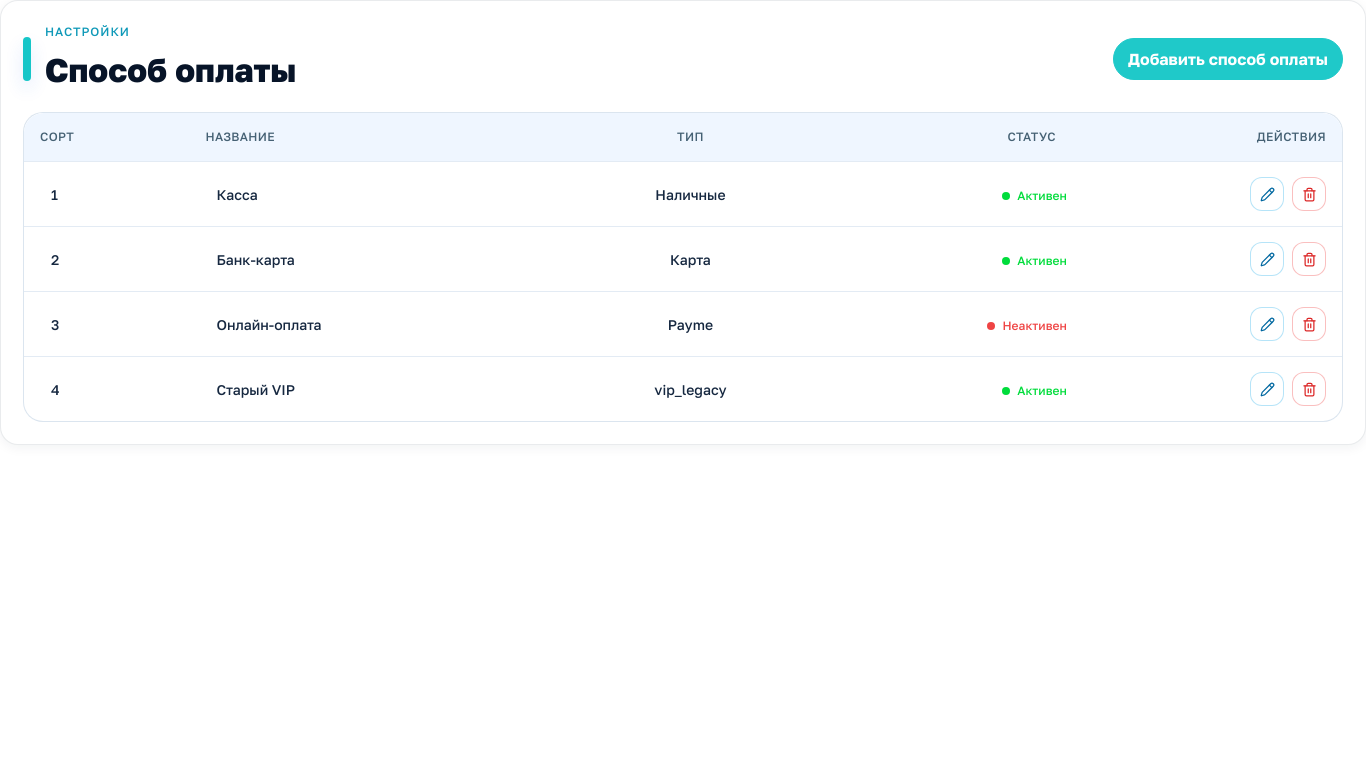
Scenario: SettingsPaymentMethodsPage — create & edit › legacy edit: dropdown shows the canonical options, raw value is a note not an option
This screenshot has width=1366, height=768.
expect the text "Касса" is shown: met, box [190,161,560,226]
Click the button named "Редактировать".
click(1267, 389)  # box [1250,372,1284,406]
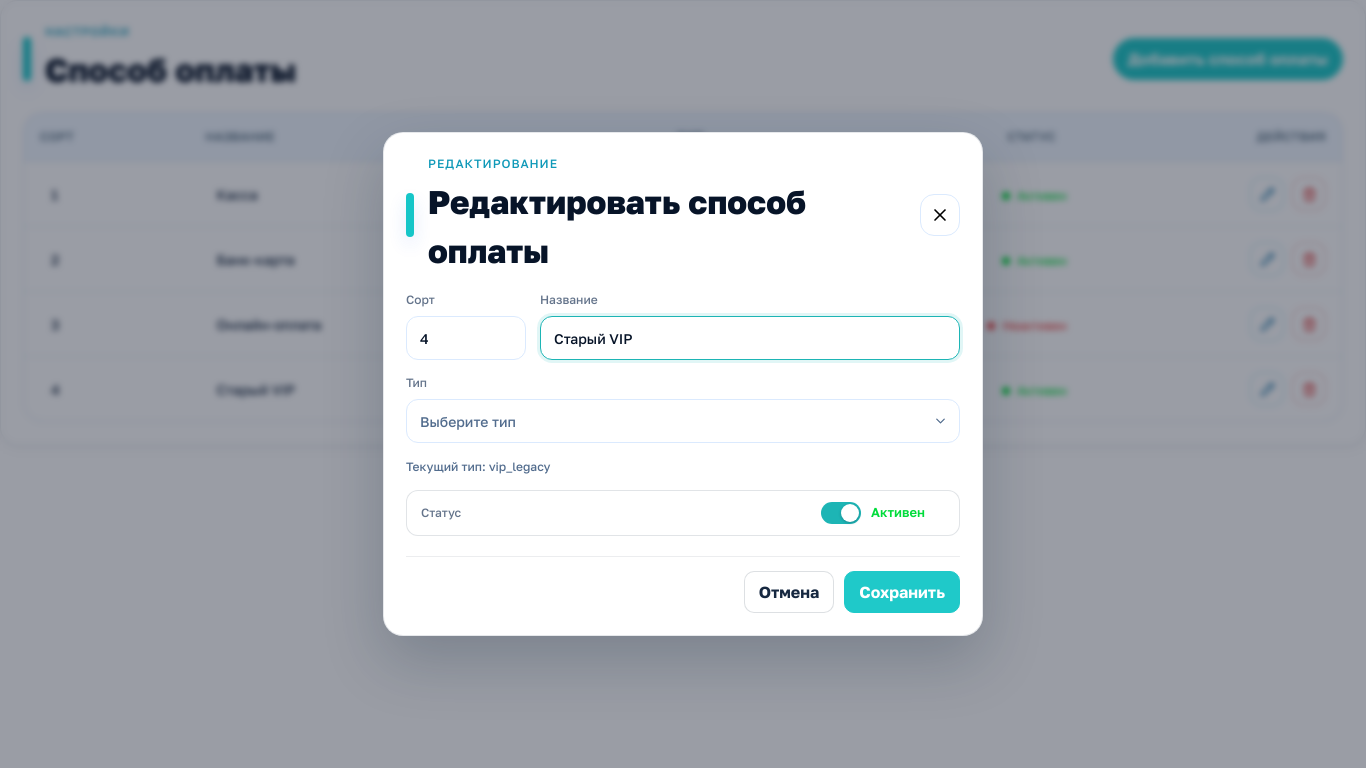
expect the text "Текущий тип: vip_legacy" is shown: met, box [406,459,551,474]
Click the dropdown labelled "тип".
click(468, 421)  # box [406,399,960,443]
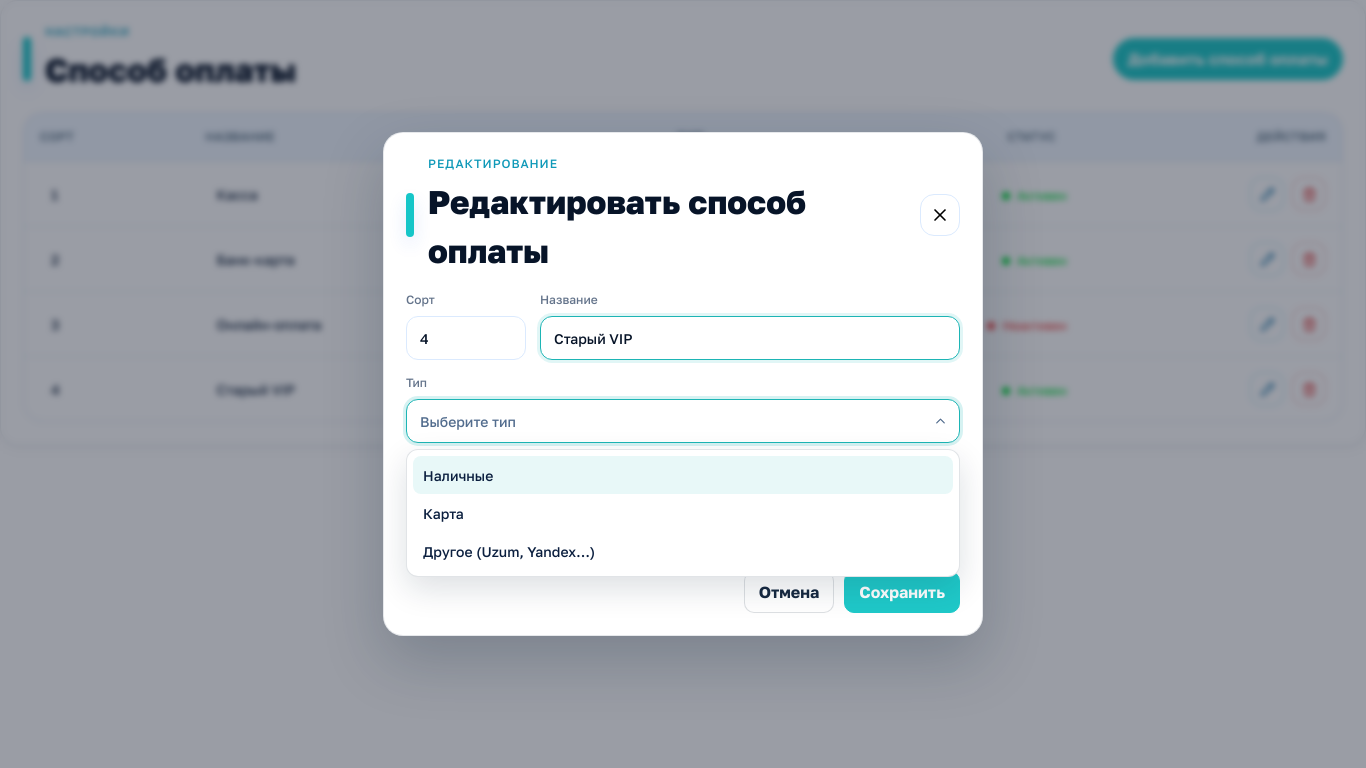
expect the options read "Наличные", "Карта", "Другое (Uzum, Yandex…)", in this order: met, box [413,456,953,494]; [413,494,953,532]; [413,532,953,570]
